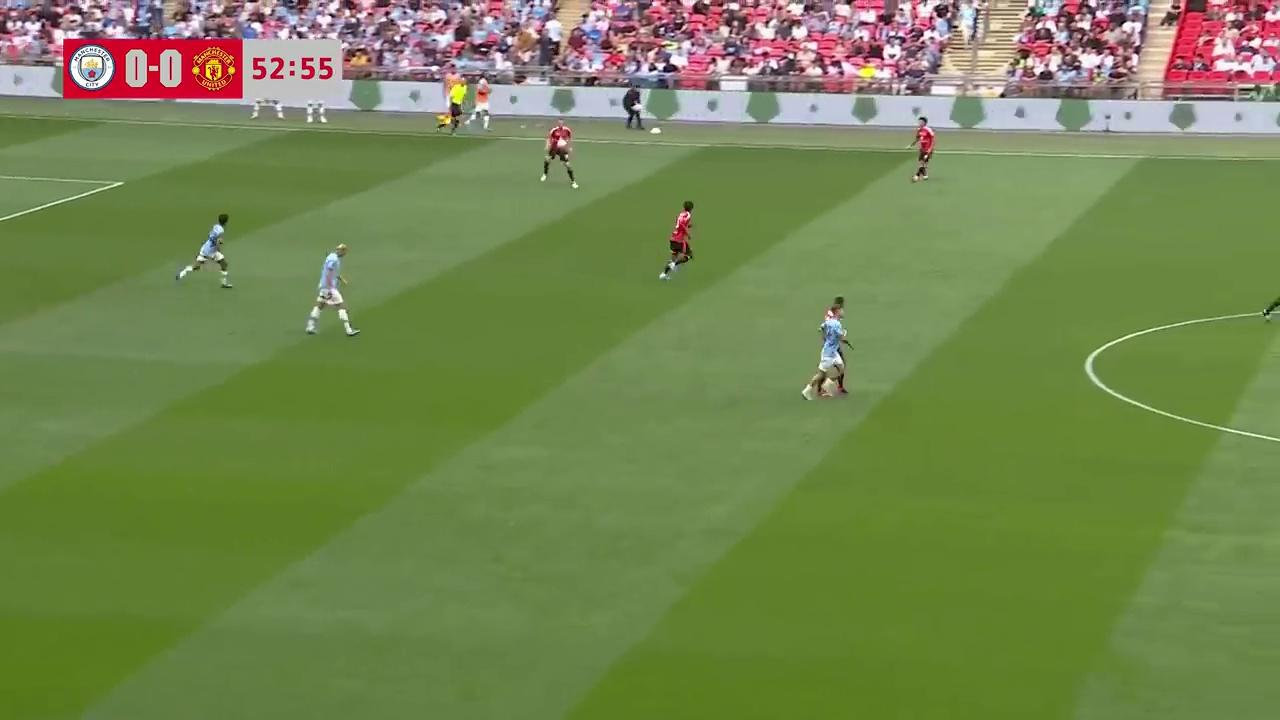player: (304, 244, 360, 336), (802, 310, 851, 400), (178, 213, 233, 288), (659, 201, 694, 282), (822, 298, 853, 381), (540, 124, 578, 188), (911, 118, 935, 182)
referee: (437, 71, 466, 135)
